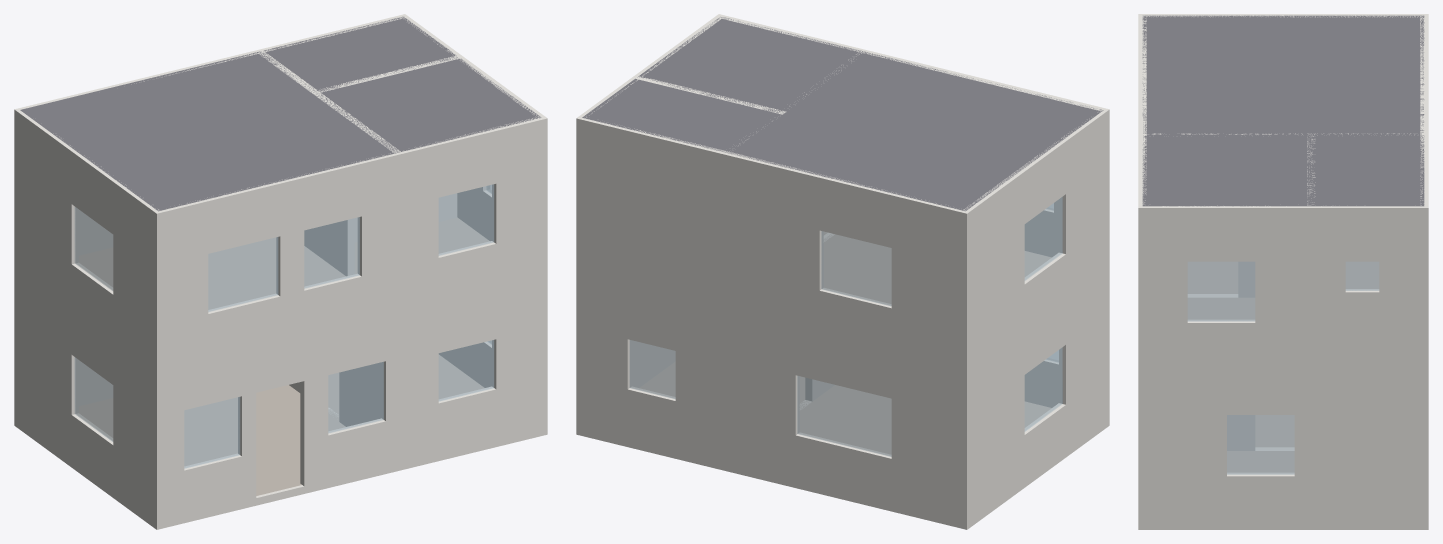
The model's file is twofloor.glb.
The picture shows the model from 3 angles, left to right: view 1: azimuth 30°, elevation 25°; view 2: azimuth 150°, elevation 25°; view 3: azimuth 270°, elevation 25°; orthographic projection.
Parts seen in each view (by area): view 1: f1_wall_h_0_0, f0_wall_h_0_0, f1_roof_bed1, f1_wall_v_0_0, f0_wall_v_0_0, f1_roof_bed2, f0_floor_living, f1_roof_bath, f1_floor_bed1, f1_glass, f1_glass.002, f0_glass (+14 smaller); view 2: f1_wall_h_5_0, f0_wall_h_5_0, f1_roof_bed1, f1_wall_v_0_0, f0_wall_v_0_0, f1_roof_bed2, f1_roof_bath, f0_glass.003, f0_floor_living, f1_floor_bed1, f1_glass.003, f1_wall_h_0_0 (+8 smaller); view 3: f0_wall_v_8_0, f1_wall_v_8_0, f1_roof_bed1, f1_roof_bed2, f1_roof_bath, f1_glass.005, f0_glass.006, f1_wall_h_0_0, f1_wall_h_5_0, f1_floor_bed1, f1_wall_h_3_5, f1_floor_bed2 (+8 smaller).
Part boxes in pixels (bbox=[...]): f1_wall_h_0_0: bbox=[152, 115, 547, 378]; f0_wall_h_0_0: bbox=[152, 276, 547, 529]; f1_roof_bed1: bbox=[20, 51, 397, 211]; f1_wall_v_0_0: bbox=[16, 111, 156, 368]; f0_wall_v_0_0: bbox=[16, 277, 154, 526]; f1_roof_bed2: bbox=[316, 57, 541, 152]; f0_floor_living: bbox=[79, 385, 345, 495]; f1_roof_bath: bbox=[261, 16, 456, 91]; f1_floor_bed1: bbox=[79, 237, 345, 309]; f1_glass: bbox=[208, 237, 278, 311]; f1_glass.002: bbox=[438, 184, 494, 255]; f0_glass: bbox=[184, 397, 240, 468]; f1_wall_h_5_0: bbox=[576, 115, 971, 378]; f0_wall_h_5_0: bbox=[576, 276, 971, 529]; f1_roof_bed1: bbox=[727, 51, 1103, 211]; f1_wall_v_0_0: bbox=[963, 111, 1105, 376]; f0_wall_v_0_0: bbox=[969, 278, 1105, 527]; f1_roof_bed2: bbox=[637, 17, 863, 111]; f1_roof_bath: bbox=[582, 78, 780, 152]; f0_glass.003: bbox=[797, 376, 891, 456]; f0_floor_living: bbox=[799, 385, 1051, 454]; f1_floor_bed1: bbox=[823, 234, 1051, 303]; f1_glass.003: bbox=[821, 231, 891, 305]; f1_wall_h_0_0: bbox=[715, 14, 1109, 269]; f0_wall_v_8_0: bbox=[1143, 369, 1424, 529]; f1_wall_v_8_0: bbox=[1142, 205, 1424, 376]; f1_roof_bed1: bbox=[1142, 15, 1424, 134]; f1_roof_bed2: bbox=[1142, 135, 1311, 206]; f1_roof_bath: bbox=[1311, 135, 1424, 206]; f1_glass.005: bbox=[1187, 261, 1255, 321]; f0_glass.006: bbox=[1227, 415, 1294, 474]; f1_wall_h_0_0: bbox=[1138, 14, 1146, 375]; f1_wall_h_5_0: bbox=[1420, 14, 1428, 375]; f1_floor_bed1: bbox=[1187, 261, 1379, 293]; f1_wall_h_3_5: bbox=[1307, 133, 1315, 375]; f1_floor_bed2: bbox=[1187, 297, 1255, 319].
Bounding box in the file's own units: 8.15 × 6.3 × 5.15.
